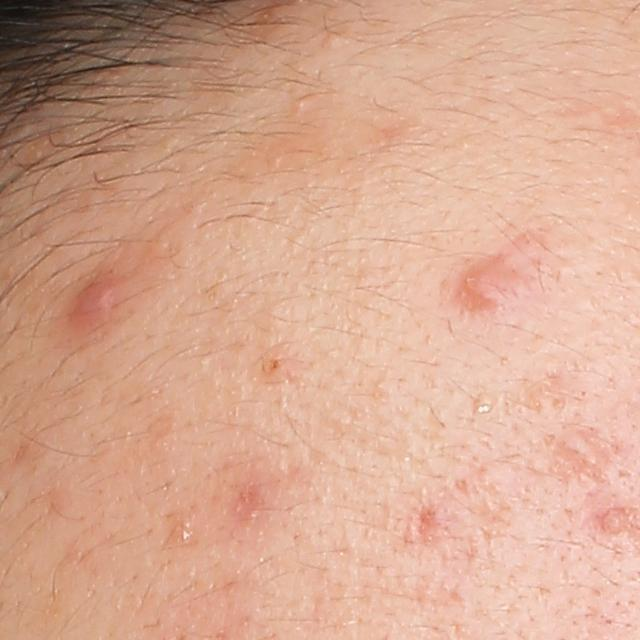comedo: (170, 523, 194, 546), (293, 95, 309, 110)
papule: (553, 429, 604, 475), (68, 280, 118, 320)
